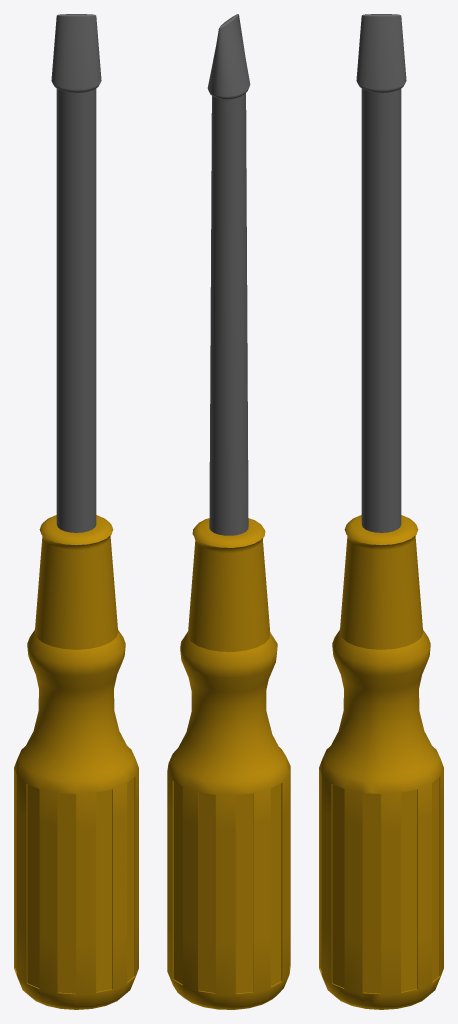
Rendered from screwdriver_0.glb.
The picture shows the model from 3 angles, left to right: view 1: azimuth 90°, elevation 25°; view 2: azimuth 150°, elevation 25°; view 3: azimuth 270°, elevation 25°; orthographic projection.
Visible parts, largest first — view 1: bdcd141c36b4465fa4fb18620af3b12b; view 2: bdcd141c36b4465fa4fb18620af3b12b; view 3: bdcd141c36b4465fa4fb18620af3b12b.
Part boxes in pixels (box(x1,y1,x2,y2)): bdcd141c36b4465fa4fb18620af3b12b: box(14, 14, 138, 1009); bdcd141c36b4465fa4fb18620af3b12b: box(167, 14, 290, 1009); bdcd141c36b4465fa4fb18620af3b12b: box(319, 14, 443, 1009).
Bounding box in the file's own units: 0.1154 × 1 × 0.1154.
